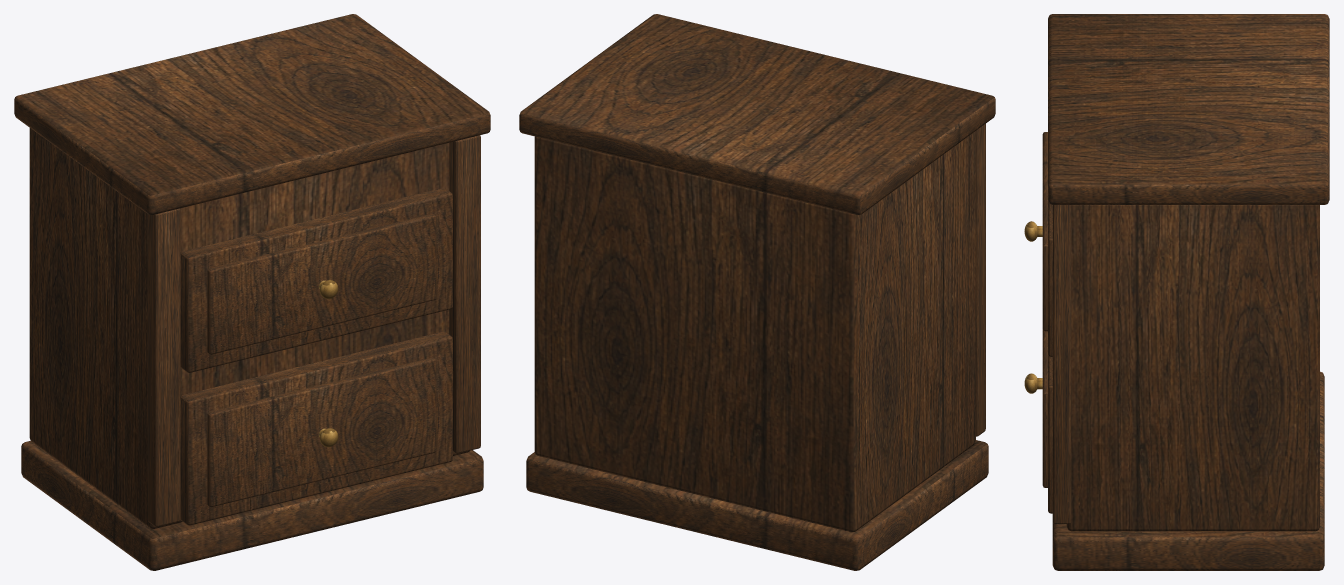
Rendered from SM_MoleControlV2_SideCabinet.fbx.
3 views of the same model, side by side, from view 1: azimuth 30°, elevation 25°; view 2: azimuth 150°, elevation 25°; view 3: azimuth 270°, elevation 25° (orthographic). The views are drawn at different scales.
Parts seen in each view (by area): view 1: SM_MoleControlV2_SideCabinet; view 2: SM_MoleControlV2_SideCabinet; view 3: SM_MoleControlV2_SideCabinet.
Part boxes in pixels (x1,y1,x2,y2): SM_MoleControlV2_SideCabinet: [14, 14, 490, 570]; SM_MoleControlV2_SideCabinet: [519, 14, 995, 570]; SM_MoleControlV2_SideCabinet: [1024, 14, 1329, 570].
Size of what is drawn, in the model's own units: 80 by 60 by 85.
